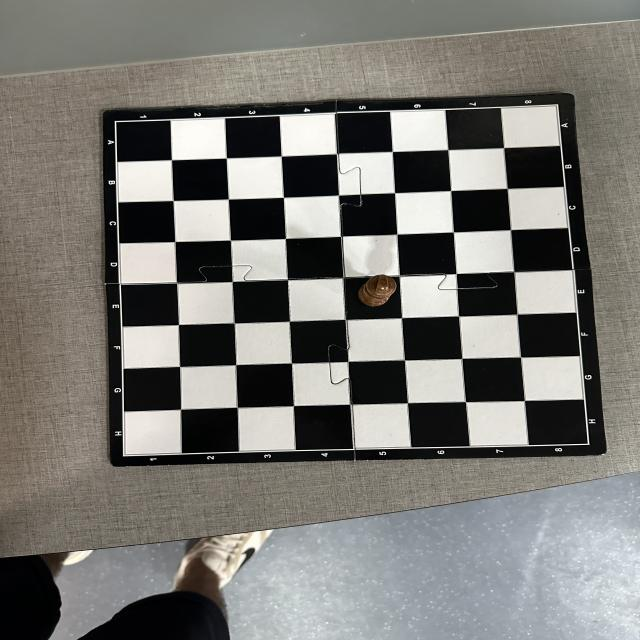Black-King: (358, 274, 396, 306)
